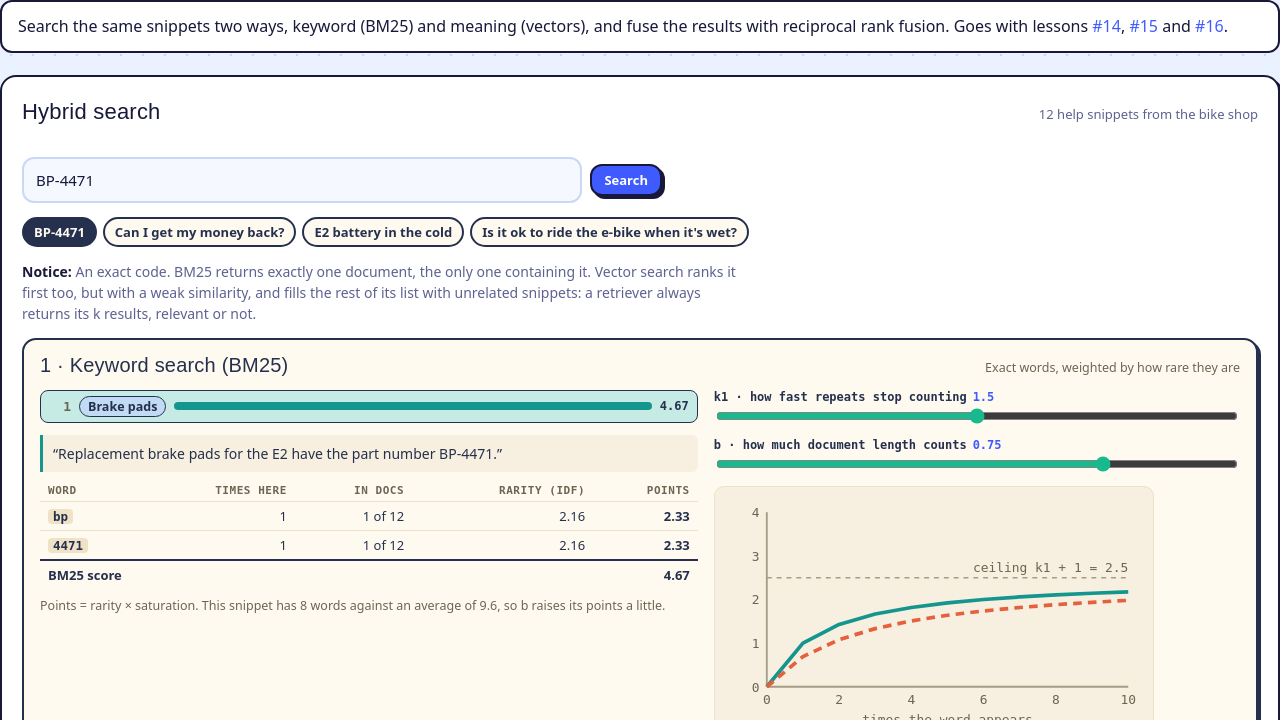
Test: HybridLab › shows BM25 finding nothing for a paraphrase
Click the button "Can I get my money back?" at (200, 232), box [103,217,296,247]
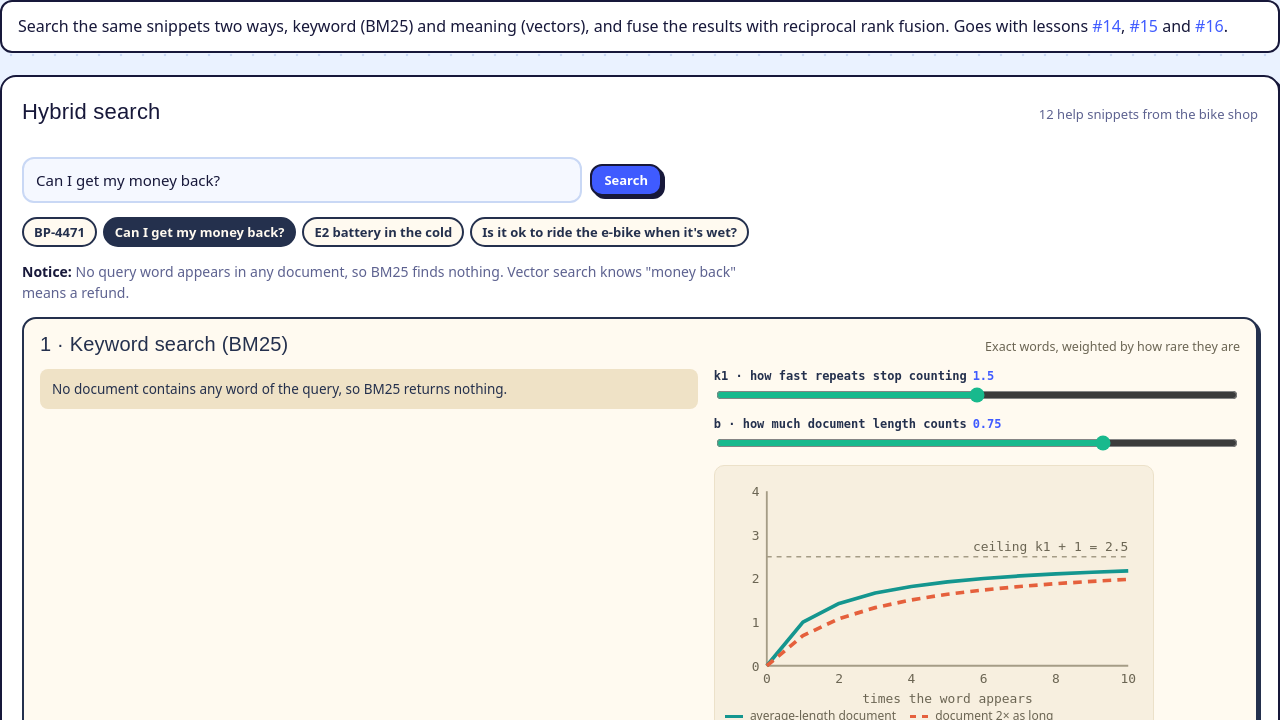
Now the text "BM25 returns nothing" is shown once, box [40,368,698,409]
